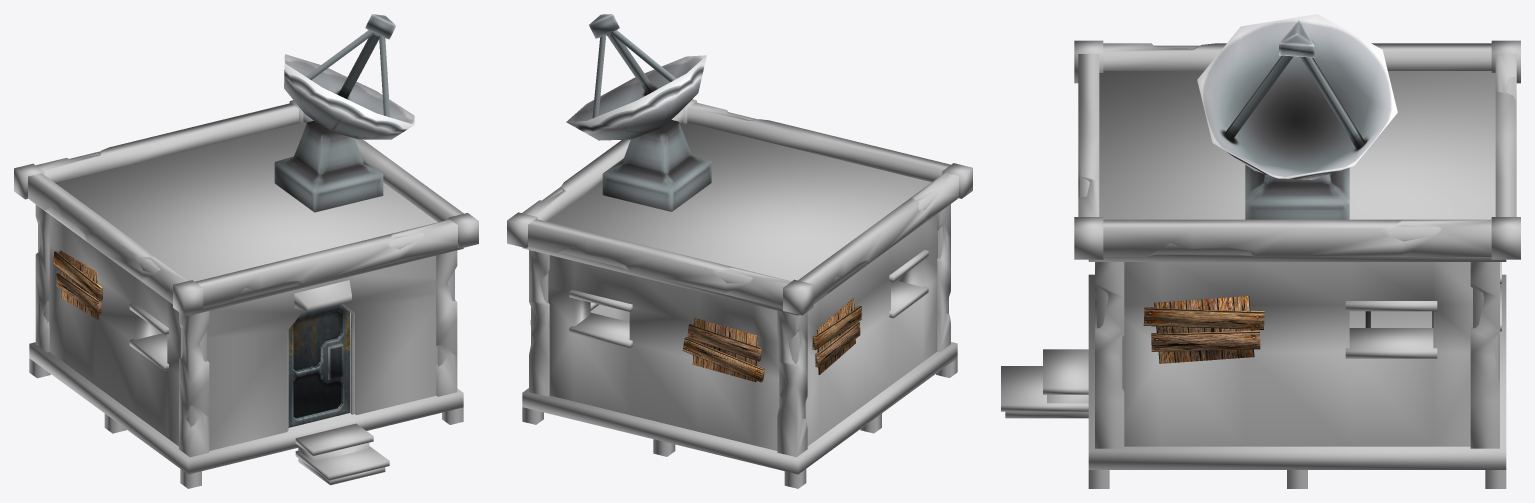
File: outPost.fbx
The picture shows the model from 3 angles, left to right: view 1: azimuth 30°, elevation 25°; view 2: azimuth 150°, elevation 25°; view 3: azimuth 270°, elevation 25°; orthographic projection. The views are drawn at different scales.
Visible parts, largest first — view 1: outpost, dish, door, wood_002; view 2: outpost, dish, wood_001, wood_002; view 3: outpost, dish, wood.
Part boxes in pixels (x1,y1,x2,y2): outpost: (14,100,478,488); dish: (274,14,414,212); door: (288,304,349,427); wood_002: (53,250,102,319); outpost: (507,99,972,488); dish: (566,14,711,211); wood_001: (682,318,764,382); wood_002: (812,298,861,374); outpost: (1001,40,1520,488); dish: (1197,14,1397,219); wood: (1143,296,1264,363).
Bounding box in the file's own units: 5.59 × 6.1 × 6.23.
